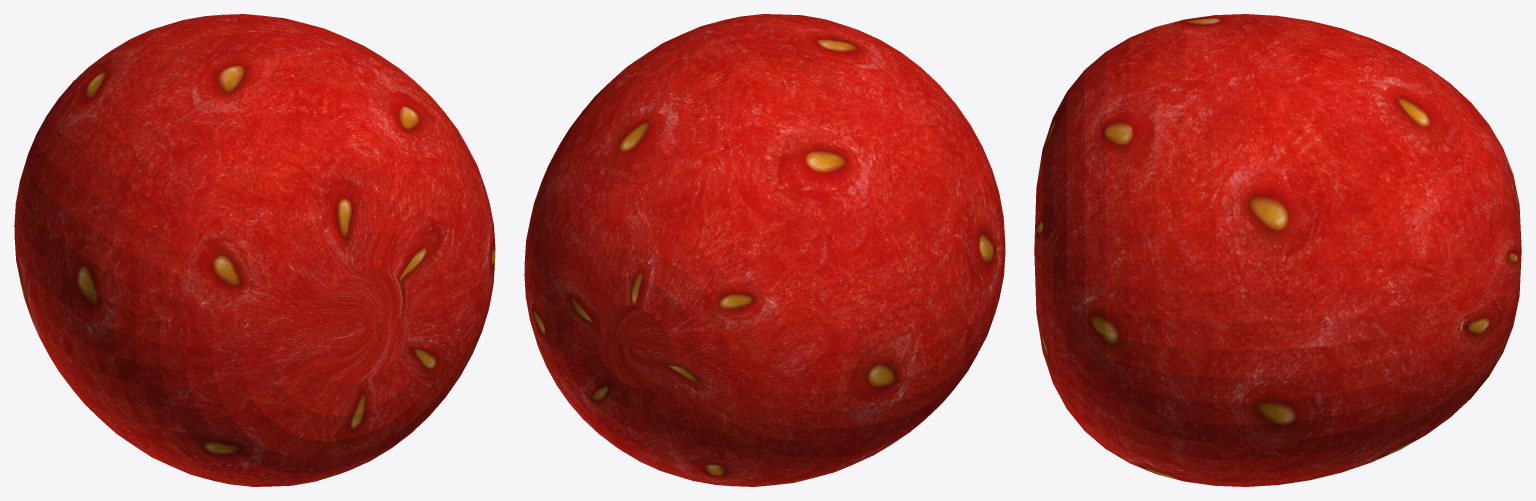
File: strawberry_body_v1.obj
3 renders of one model, left to right at view 1: azimuth 30°, elevation 25°; view 2: azimuth 150°, elevation 25°; view 3: azimuth 270°, elevation 25°, orthographic. The views are drawn at different scales.
Parts seen in each view (by area): view 1: strawberry_body; view 2: strawberry_body; view 3: strawberry_body.
Part boxes in pixels (box(x1,y1,x2,y2)): strawberry_body: box(14, 14, 495, 486); strawberry_body: box(524, 14, 1005, 486); strawberry_body: box(1034, 14, 1521, 486).
Size of the model in its own units: 0.068 by 0.068 by 0.07.
Materials: 1 (1 with a texture image).
